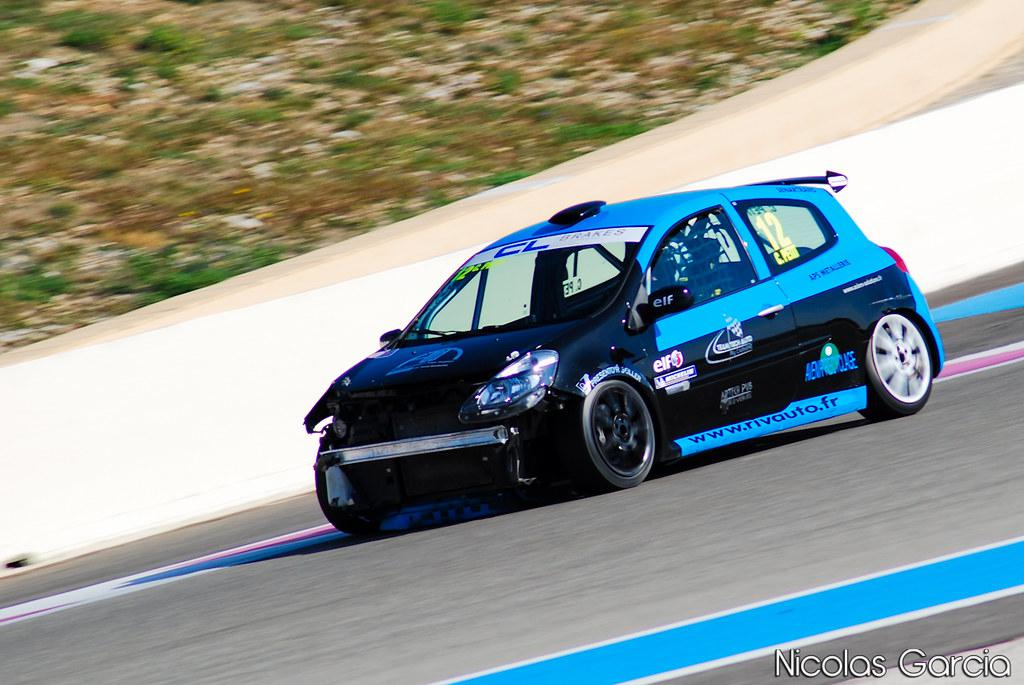bonnet-dent: (313, 328, 543, 430)
